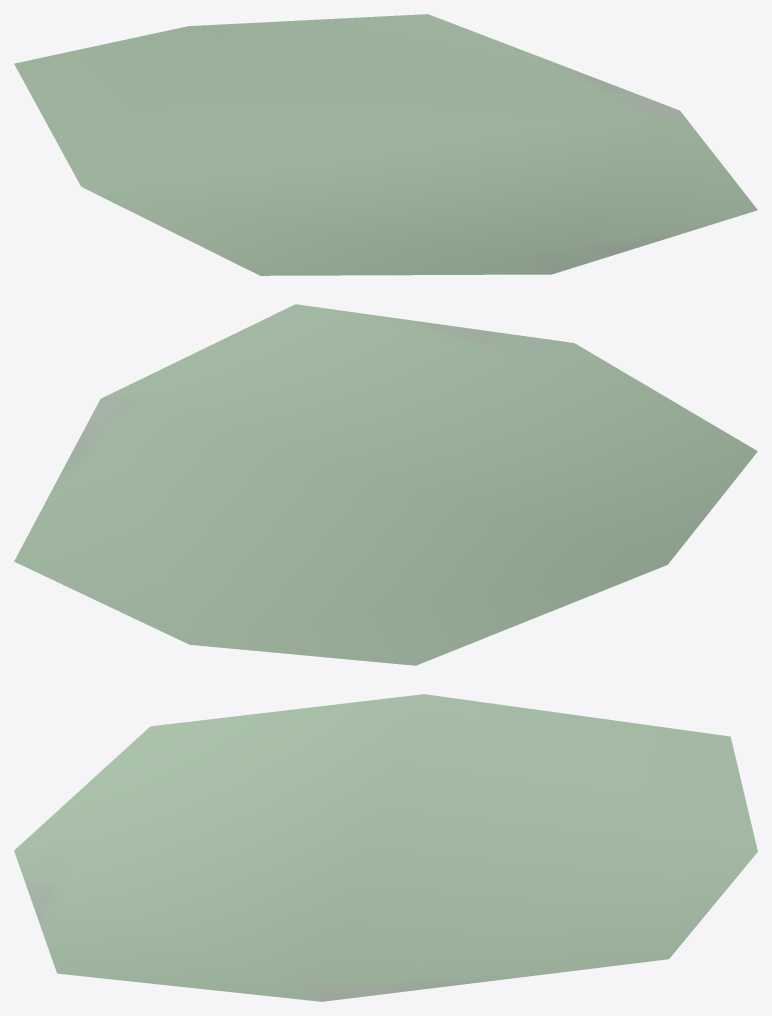
Rendered from TROLLHOLE02_HOLECAP51.fbx.
3 views of the same model, one above another, from view 1: azimuth 30°, elevation 25°; view 2: azimuth 150°, elevation 25°; view 3: azimuth 270°, elevation 25° (orthographic). The views are drawn at different scales.
Visible parts, largest first — view 1: TROLLHOLE02_HOLECAP51; view 2: TROLLHOLE02_HOLECAP51; view 3: TROLLHOLE02_HOLECAP51.
Boxes of the visible parts, x1,y1,x2,y2 form: TROLLHOLE02_HOLECAP51: [14, 14, 757, 275]; TROLLHOLE02_HOLECAP51: [14, 304, 757, 665]; TROLLHOLE02_HOLECAP51: [14, 694, 757, 1001].
Bounding box in the file's own units: 27113 × 1182 × 30040.
Materials: 1 (1 with a texture image).
